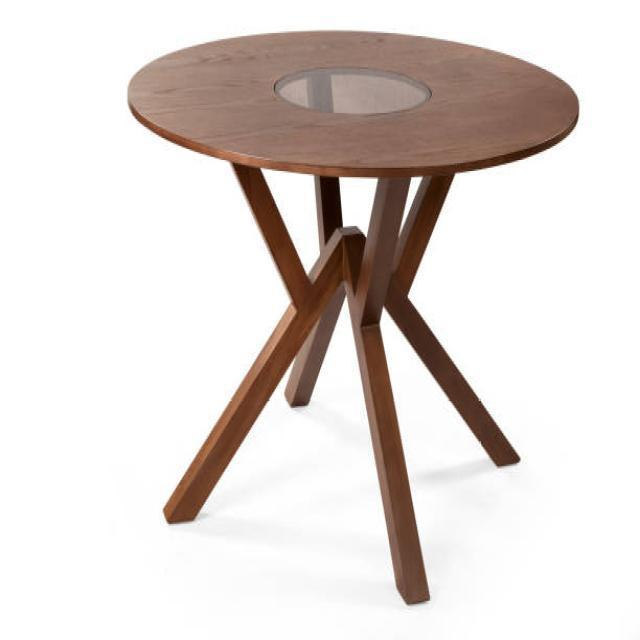table: (126, 27, 580, 606)
